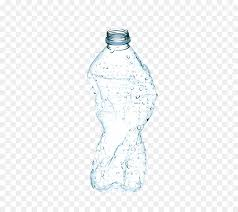available: (79, 21, 164, 197)
